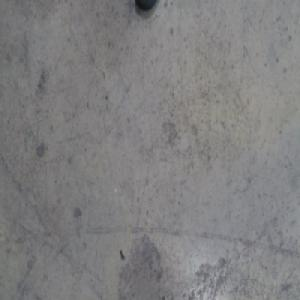AdjustableWrench: (134, 0, 157, 10)
